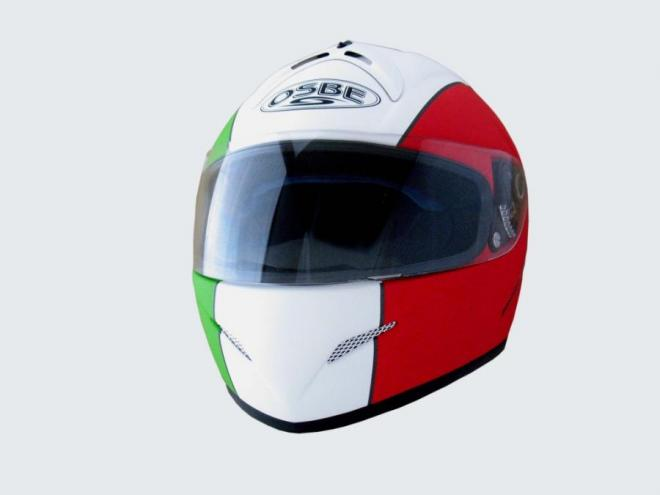helmet: (172, 40, 542, 389)
